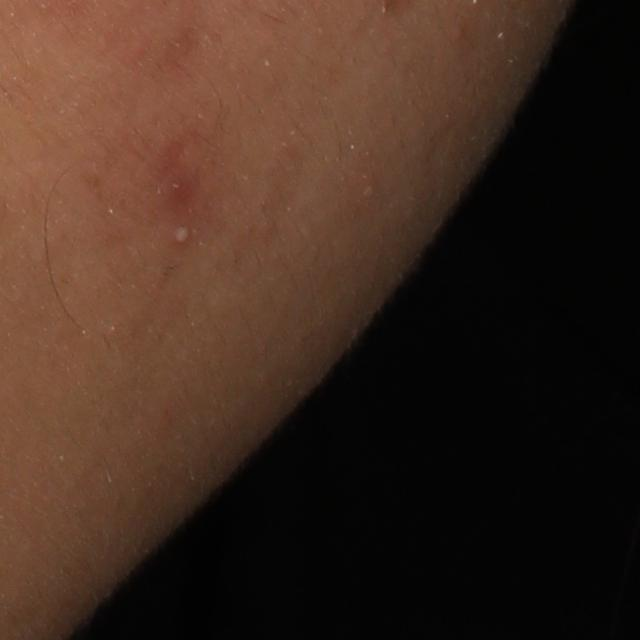pustule: (163, 217, 196, 253)
